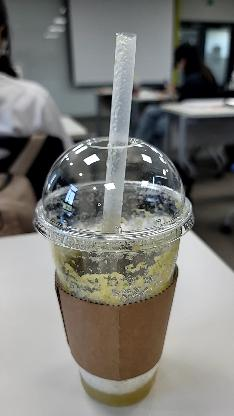Plastic Cup: (27, 134, 195, 408), (31, 134, 193, 252)
